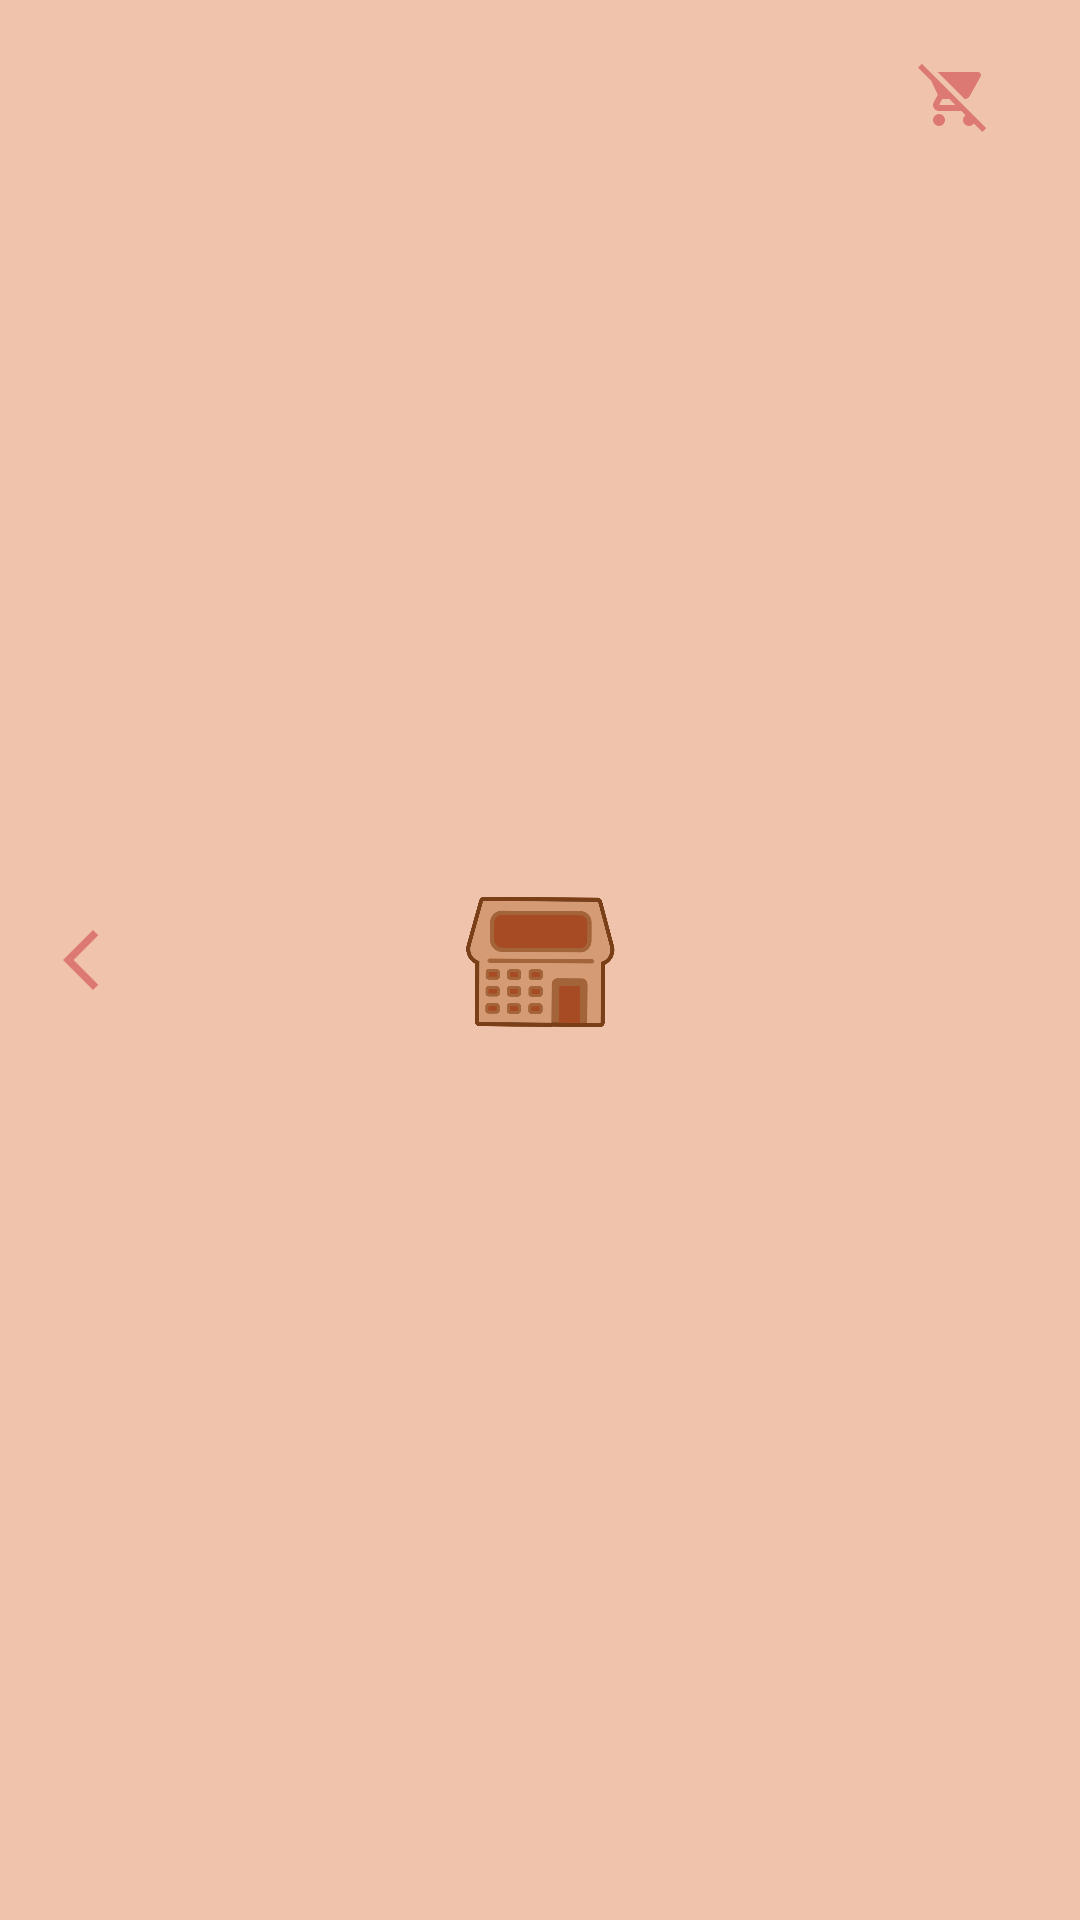

Named icons in this screenshot (1080px x 1920px) and their bounding boxes, (x1,y1,x2,y2):
back: (63,930,98,990)
cart move: (918,64,986,132)
